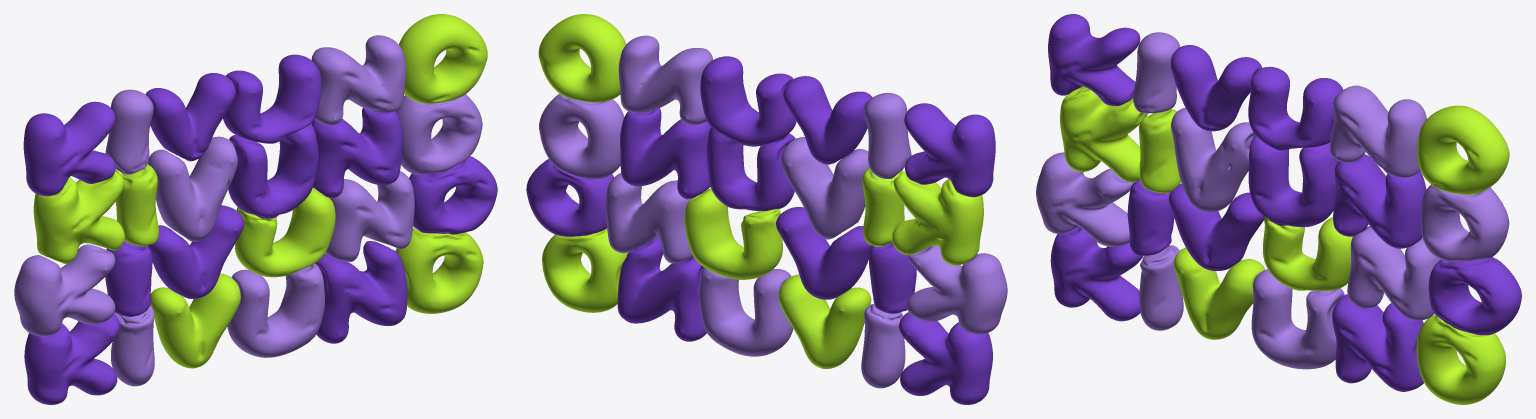
The model's file is kivuno-puffy-title.glb.
The picture shows the model from 3 angles, left to right: view 1: azimuth 30°, elevation 25°; view 2: azimuth 150°, elevation 25°; view 3: azimuth 330°, elevation 25°; orthographic projection.
Parts seen in each view (by area): view 1: SM_Row_03_Letter_01_K, SM_Row_04_Letter_04_U, SM_Row_01_Letter_01_K, SM_Row_04_Letter_05_N, SM_Row_01_Letter_06_O, SM_Row_04_Letter_01_K, SM_Row_02_Letter_03_V, SM_Row_01_Letter_05_N, SM_Row_02_Letter_04_U, SM_Row_01_Letter_04_U, SM_Row_02_Letter_01_K, SM_Row_02_Letter_05_N (+12 smaller); view 2: SM_Row_01_Letter_01_K, SM_Row_03_Letter_01_K, SM_Row_04_Letter_01_K, SM_Row_03_Letter_04_U, SM_Row_01_Letter_06_O, SM_Row_02_Letter_05_N, SM_Row_04_Letter_04_U, SM_Row_02_Letter_01_K, SM_Row_04_Letter_05_N, SM_Row_01_Letter_04_U, SM_Row_02_Letter_06_O, SM_Row_01_Letter_05_N (+12 smaller); view 3: SM_Row_04_Letter_05_N, SM_Row_01_Letter_06_O, SM_Row_01_Letter_05_N, SM_Row_02_Letter_05_N, SM_Row_04_Letter_04_U, SM_Row_03_Letter_01_K, SM_Row_02_Letter_04_U, SM_Row_04_Letter_01_K, SM_Row_01_Letter_01_K, SM_Row_04_Letter_06_O, SM_Row_03_Letter_05_N, SM_Row_03_Letter_06_O (+12 smaller).
Part boxes in pixels (left/top/right/bottom): SM_Row_03_Letter_01_K: left=14, top=244, right=115, bottom=336; SM_Row_04_Letter_04_U: left=227, top=263, right=324, bottom=357; SM_Row_01_Letter_01_K: left=23, top=101, right=115, bottom=196; SM_Row_04_Letter_05_N: left=315, top=241, right=407, bottom=343; SM_Row_01_Letter_06_O: left=399, top=14, right=487, bottom=103; SM_Row_04_Letter_01_K: left=24, top=314, right=119, bottom=404; SM_Row_02_Letter_03_V: left=148, top=136, right=237, bottom=241; SM_Row_01_Letter_05_N: left=311, top=35, right=406, bottom=125; SM_Row_02_Letter_04_U: left=228, top=124, right=318, bottom=218; SM_Row_01_Letter_04_U: left=223, top=54, right=321, bottom=143; SM_Row_02_Letter_01_K: left=33, top=171, right=124, bottom=263; SM_Row_02_Letter_05_N: left=311, top=107, right=402, bottom=198; SM_Row_01_Letter_01_K: left=904, top=103, right=995, bottom=197; SM_Row_03_Letter_01_K: left=907, top=245, right=1007, bottom=334; SM_Row_04_Letter_01_K: left=899, top=312, right=992, bottom=404; SM_Row_03_Letter_04_U: left=684, top=188, right=782, bottom=279; SM_Row_01_Letter_06_O: left=538, top=14, right=626, bottom=102; SM_Row_02_Letter_05_N: left=620, top=108, right=711, bottom=199; SM_Row_04_Letter_04_U: left=699, top=267, right=793, bottom=356; SM_Row_02_Letter_01_K: left=892, top=171, right=983, bottom=265; SM_Row_04_Letter_05_N: left=617, top=237, right=706, bottom=341; SM_Row_01_Letter_04_U: left=700, top=56, right=796, bottom=146; SM_Row_02_Letter_06_O: left=539, top=93, right=624, bottom=179; SM_Row_01_Letter_05_N: left=618, top=35, right=712, bottom=125; SM_Row_04_Letter_05_N: left=1332, top=294, right=1423, bottom=391; SM_Row_01_Letter_06_O: left=1417, top=105, right=1509, bottom=194; SM_Row_01_Letter_05_N: left=1330, top=85, right=1426, bottom=177; SM_Row_02_Letter_05_N: left=1333, top=154, right=1426, bottom=248; SM_Row_04_Letter_04_U: left=1251, top=269, right=1344, bottom=369; SM_Row_03_Letter_01_K: left=1036, top=152, right=1133, bottom=246; SM_Row_02_Letter_04_U: left=1248, top=135, right=1338, bottom=227; SM_Row_04_Letter_01_K: left=1050, top=226, right=1143, bottom=321; SM_Row_01_Letter_01_K: left=1048, top=14, right=1140, bottom=105; SM_Row_04_Letter_06_O: left=1416, top=314, right=1505, bottom=404; SM_Row_03_Letter_05_N: left=1347, top=226, right=1441, bottom=320; SM_Row_03_Letter_06_O: left=1428, top=257, right=1521, bottom=335.
Size of the model in its own units: 11.92 by 7.13 by 1.31.
